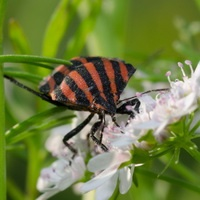insect: (4, 57, 139, 156)
